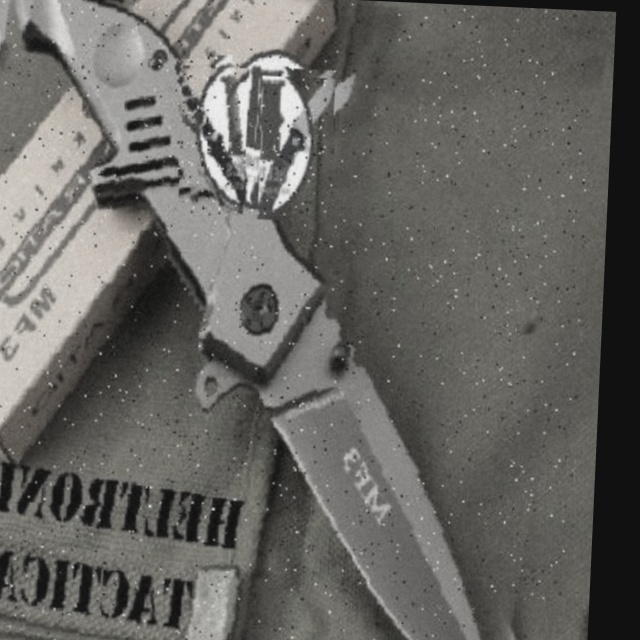Sharp-Object: (0, 0, 595, 640), (256, 75, 335, 222), (176, 65, 249, 216)
